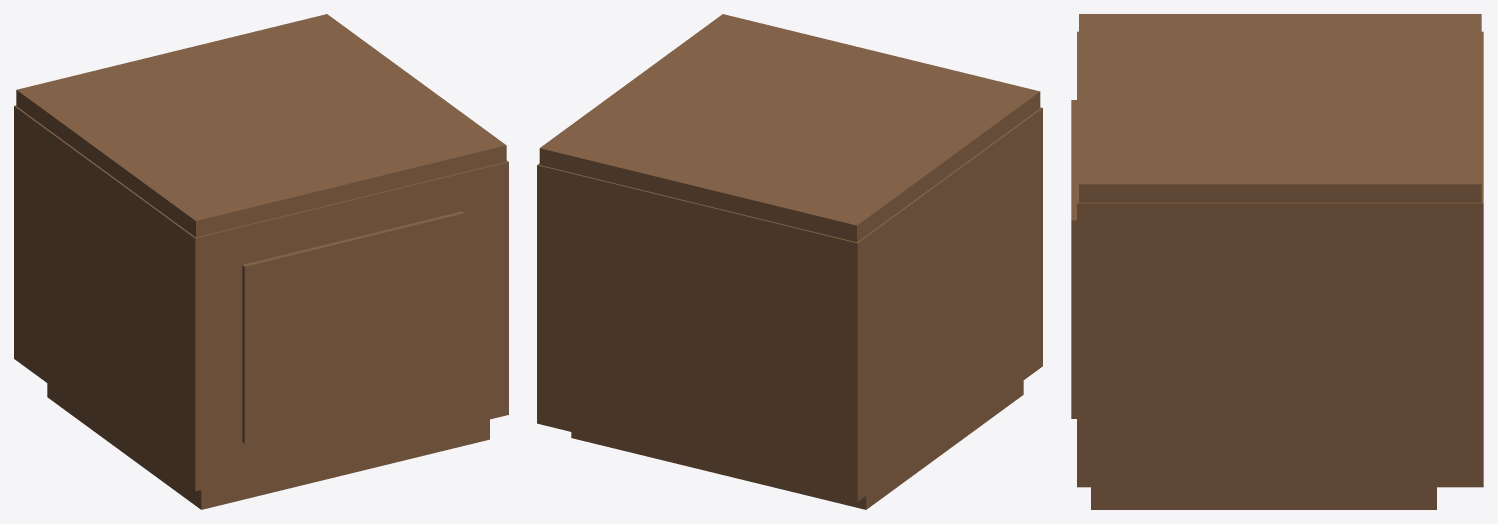
The model's file is counter_whole.glb.
3 views of the same model, side by side, from view 1: azimuth 30°, elevation 25°; view 2: azimuth 150°, elevation 25°; view 3: azimuth 270°, elevation 25° (orthographic). The views are drawn at different scales.
Parts seen in each view (by area): view 1: counter_whole_0; view 2: counter_whole_0; view 3: counter_whole_0.
Part boxes in pixels (bbox=[...]): counter_whole_0: bbox=[14, 14, 508, 509]; counter_whole_0: bbox=[537, 14, 1042, 509]; counter_whole_0: bbox=[1071, 14, 1483, 509].
Bounding box in the file's own units: 1 × 0.9 × 1.01.
